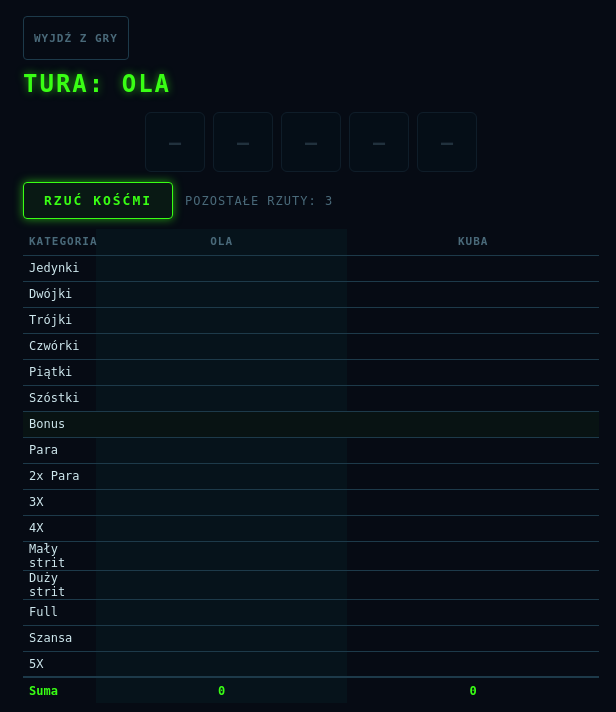
Test: GameScreen › scoring a category records it on the board and advances to the next player
Check: the heading "Tura: Ola" is shown, box [23,70,171,98]
Click the button "Rzuć kośćmi" at x=98, y=200, box [23,182,173,219]
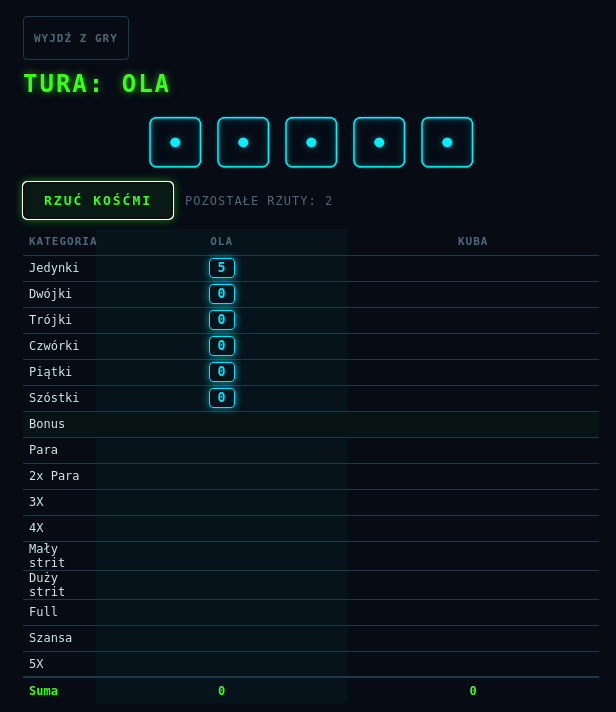
Check: the button "5" is shown
Click the button "5" at x=222, y=268, box [209,258,235,278]
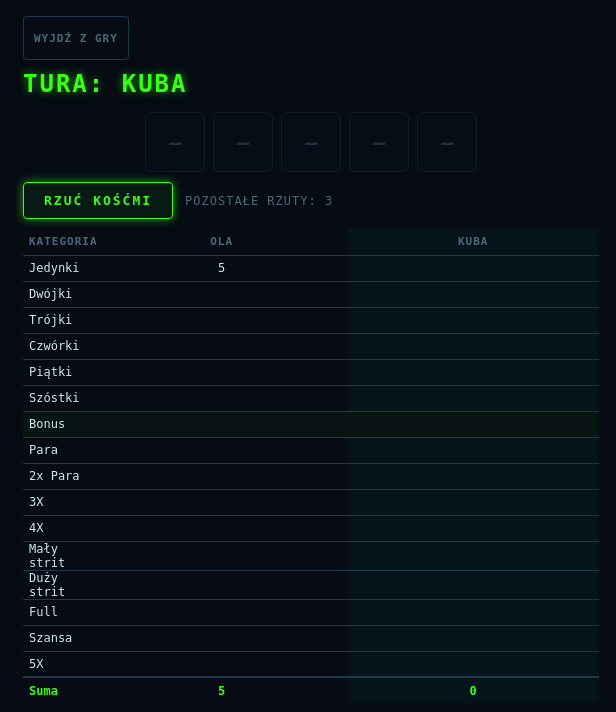
Check: the text "Jedynki" shows "5", box [218,261,225,275]
Check: the heading "Tura: Kuba" is shown, box [23,70,188,98]
